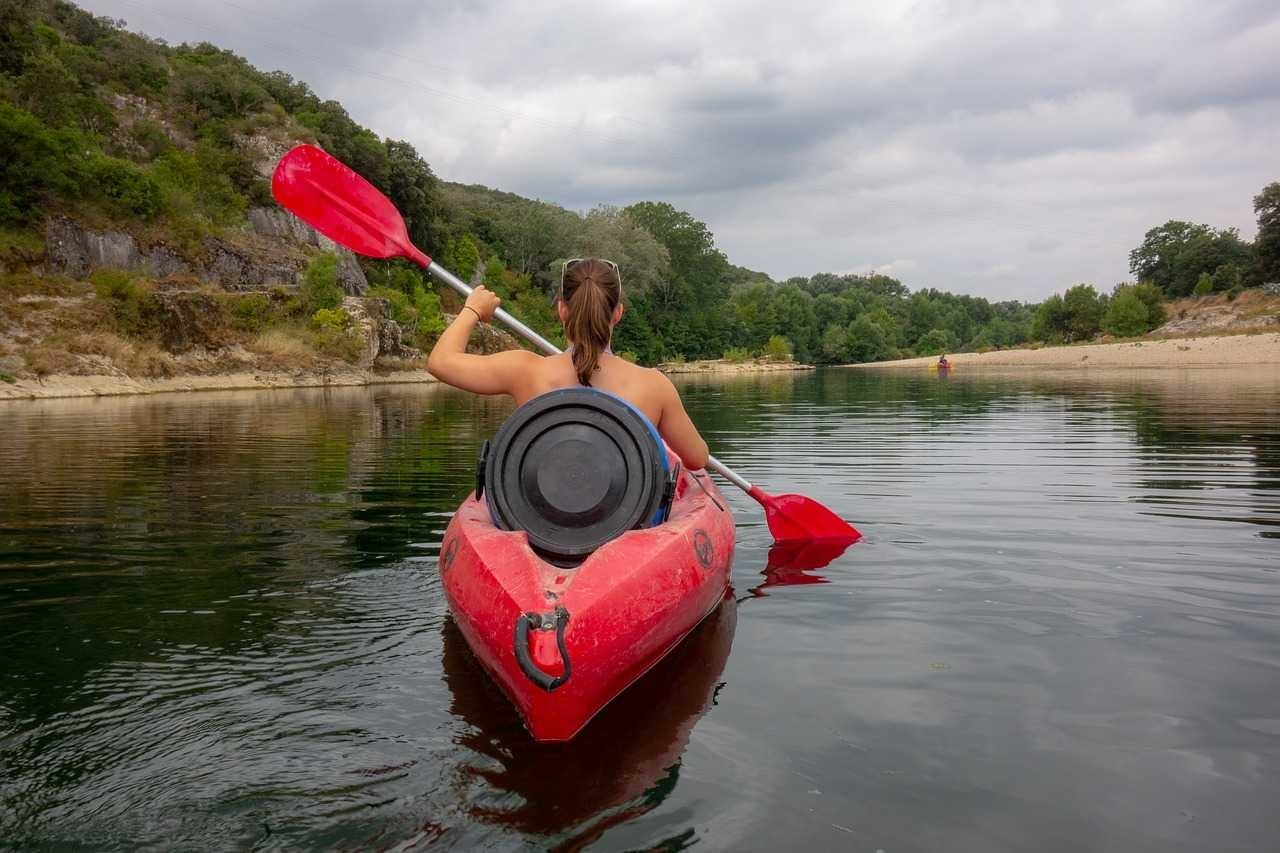kayak: (436, 439, 737, 745)
